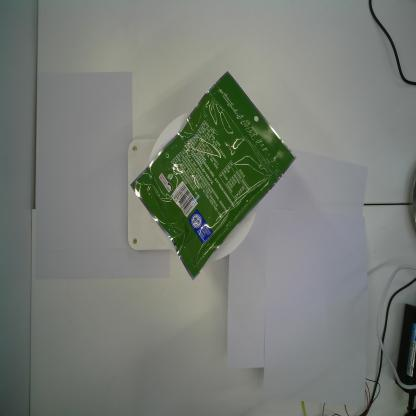Dried Fruit: (130, 70, 298, 281)
